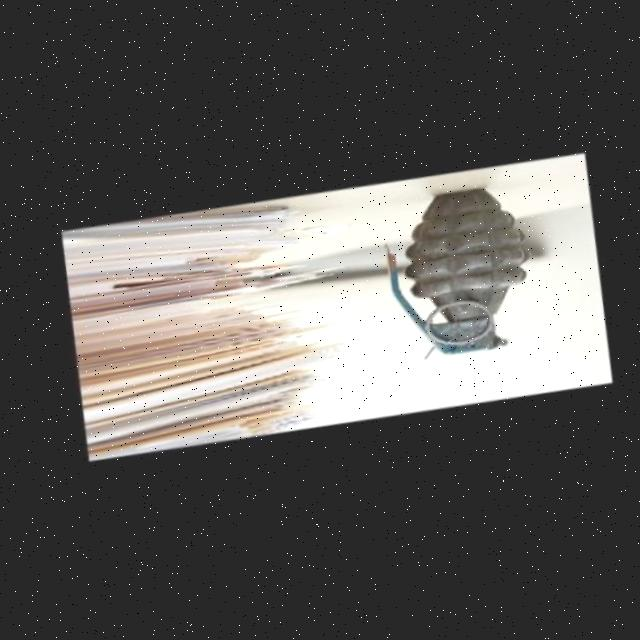grenade: (341, 160, 557, 382)
